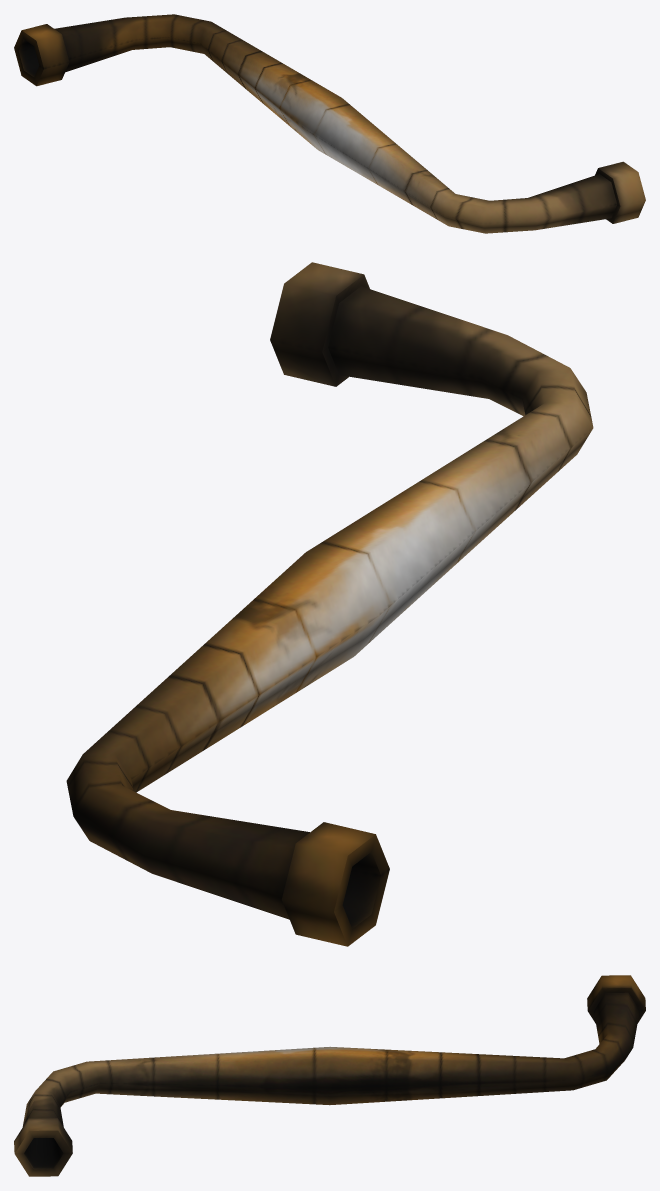
File: MESH_AMB32_tuyau6.fbx
3 renders of one model, top to bottom at view 1: azimuth 30°, elevation 25°; view 2: azimuth 150°, elevation 25°; view 3: azimuth 270°, elevation 25°, orthographic. The views are drawn at different scales.
Visible parts, largest first — view 1: tuyau6; view 2: tuyau6; view 3: tuyau6.
Part boxes in pixels (x1,y1,x2,y2): tuyau6: (14,14,645,233); tuyau6: (66,262,593,946); tuyau6: (14,975,645,1176).
Bounding box in the file's own units: 17.41 × 2.42 × 29.84.
Materials: 1 (1 with a texture image).
